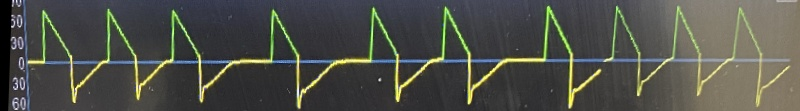normal_flow: (30, 0, 775, 111)
